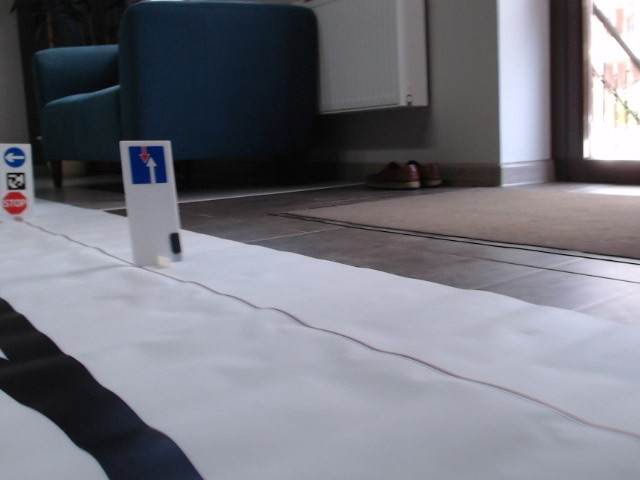Stop: (2, 192, 28, 214)
priority_movement: (126, 144, 168, 185)
